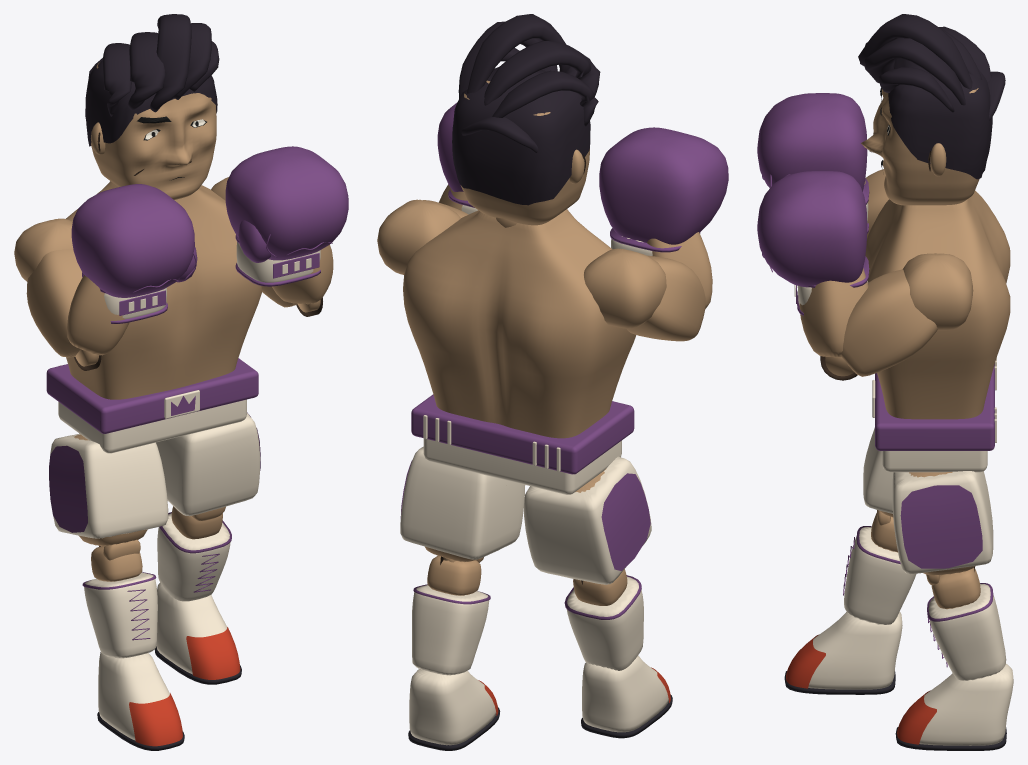
The model's file is encore.glb.
3 renders of one model, left to right at view 1: azimuth 30°, elevation 25°; view 2: azimuth 150°, elevation 25°; view 3: azimuth 270°, elevation 25°, orthographic. The views are drawn at different scales.
Visible parts, largest first — view 1: Mould assembly Body.003 Juno warm olive plastic, Mould assembly GloveR.003 Juno plum gloves, Mould assembly GloveL.003 Juno plum gloves, Mould assembly Head.003 Juno ink quiff, Mould assembly Head.003 Juno warm olive plastic, Mould assembly LegUpperR.003 Cream trunks and boots, Mould assembly LegUpperL.003 Cream trunks and boots, Mould assembly Hips.003 Juno plum gloves, Mould assembly LegLowerL.003 Cream trunks and boots, Mould assembly Hips.003 Cream trunks and boots, Mould assembly LegLowerR.003 Cream trunks and boots, Mould assembly ArmUpperL.003 Juno warm olive plastic (+14 smaller); view 2: Mould assembly Body.003 Juno warm olive plastic, Mould assembly Head.003 Juno ink quiff, Mould assembly GloveL.003 Juno plum gloves, Mould assembly LegUpperR.003 Cream trunks and boots, Mould assembly LegUpperL.003 Cream trunks and boots, Mould assembly Hips.003 Juno plum gloves, Mould assembly LegLowerR.003 Cream trunks and boots, Mould assembly FootR.003 Cream trunks and boots, Mould assembly FootL.003 Cream trunks and boots, Mould assembly Hips.003 Cream trunks and boots, Mould assembly LegLowerL.003 Cream trunks and boots, Mould assembly ArmUpperL.003 Juno warm olive plastic (+8 smaller); view 3: Mould assembly Body.003 Juno warm olive plastic, Mould assembly Head.003 Juno ink quiff, Mould assembly GloveR.003 Juno plum gloves, Mould assembly GloveL.003 Juno plum gloves, Mould assembly ArmUpperR.003 Juno warm olive plastic, Mould assembly LegUpperR.003 Juno plum gloves, Mould assembly FootR.003 Cream trunks and boots, Mould assembly FootL.003 Cream trunks and boots, Mould assembly Head.003 Juno warm olive plastic, Mould assembly LegLowerR.003 Cream trunks and boots, Mould assembly Hips.003 Juno plum gloves, Mould assembly LegLowerL.003 Cream trunks and boots (+11 smaller).
Boxes of the visible parts, box(x1,y1,x2,y2) form: Mould assembly Body.003 Juno warm olive plastic: box(14, 177, 261, 399); Mould assembly GloveR.003 Juno plum gloves: box(225, 146, 348, 286); Mould assembly GloveL.003 Juno plum gloves: box(71, 184, 197, 323); Mould assembly Head.003 Juno ink quiff: box(85, 14, 219, 146); Mould assembly Head.003 Juno warm olive plastic: box(91, 62, 216, 199); Mould assembly LegUpperR.003 Cream trunks and boots: box(156, 413, 260, 516); Mould assembly LegUpperL.003 Cream trunks and boots: box(50, 433, 168, 538); Mould assembly Hips.003 Juno plum gloves: box(46, 358, 258, 433); Mould assembly LegLowerL.003 Cream trunks and boots: box(84, 572, 157, 658); Mould assembly Hips.003 Cream trunks and boots: box(58, 365, 246, 453); Mould assembly LegLowerR.003 Cream trunks and boots: box(157, 513, 230, 601); Mould assembly ArmUpperL.003 Juno warm olive plastic: box(26, 249, 82, 357); Mould assembly Body.003 Juno warm olive plastic: box(377, 199, 666, 438); Mould assembly Head.003 Juno ink quiff: box(452, 14, 600, 205); Mould assembly GloveL.003 Juno plum gloves: box(599, 127, 728, 252); Mould assembly LegUpperR.003 Cream trunks and boots: box(400, 446, 525, 559); Mould assembly LegUpperL.003 Cream trunks and boots: box(524, 456, 651, 584); Mould assembly Hips.003 Juno plum gloves: box(411, 394, 634, 474); Mould assembly LegLowerR.003 Cream trunks and boots: box(412, 585, 489, 675); Mould assembly FootR.003 Cream trunks and boots: box(409, 669, 496, 745); Mould assembly FootL.003 Cream trunks and boots: box(582, 655, 668, 732); Mould assembly Hips.003 Cream trunks and boots: box(423, 415, 621, 494); Mould assembly LegLowerL.003 Cream trunks and boots: box(566, 576, 643, 670); Mould assembly ArmUpperL.003 Juno warm olive plastic: box(626, 255, 705, 341); Mould assembly Body.003 Juno warm olive plastic: box(865, 190, 1010, 419); Mould assembly Head.003 Juno ink quiff: box(858, 14, 1005, 179); Mould assembly GloveR.003 Juno plum gloves: box(757, 171, 869, 315); Mould assembly GloveL.003 Juno plum gloves: box(757, 93, 869, 233); Mould assembly ArmUpperR.003 Juno warm olive plastic: box(840, 269, 937, 376); Mould assembly LegUpperR.003 Juno plum gloves: box(900, 485, 982, 568); Mould assembly FootR.003 Cream trunks and boots: box(919, 664, 1013, 745); Mould assembly FootL.003 Cream trunks and boots: box(808, 612, 902, 689); Mould assembly Head.003 Juno warm olive plastic: box(861, 88, 979, 205); Mould assembly LegLowerR.003 Cream trunks and boots: box(928, 584, 1006, 680); Mould assembly Hips.003 Juno plum gloves: box(875, 364, 994, 450); Mould assembly LegLowerL.003 Cream trunks and boots: box(844, 527, 916, 624).
Size of the model in its own units: 1.21 by 2.84 by 0.9456.
